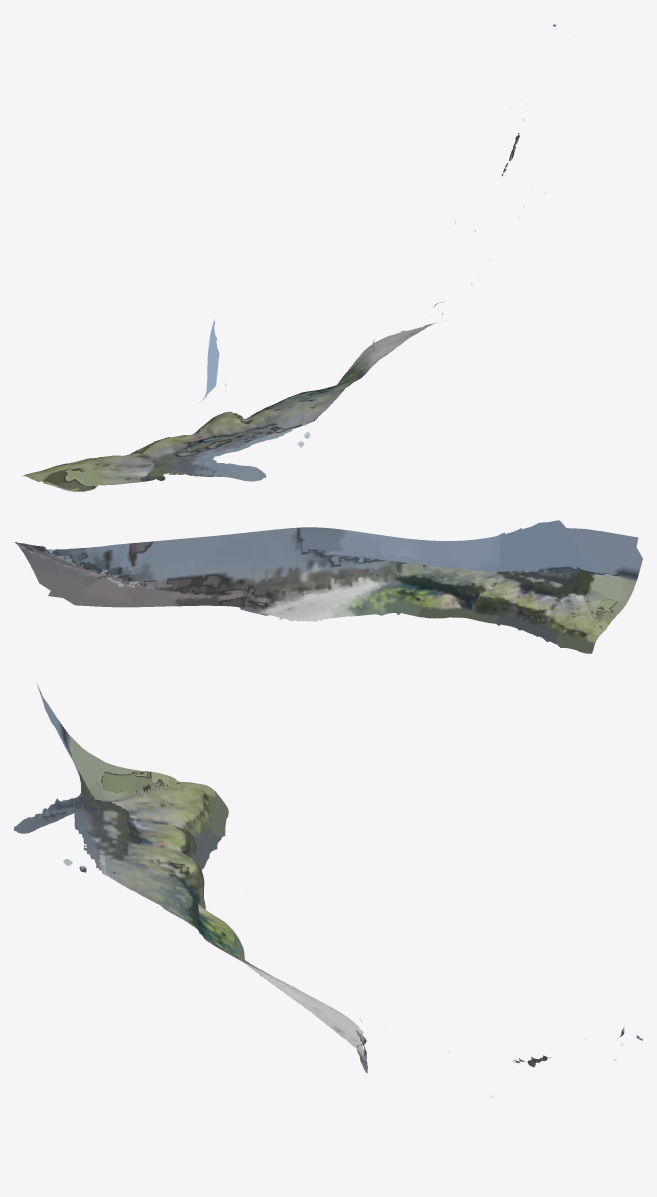
File: 3d_model_stitched_image_20250701_171153.gltf
3 renders of one model, top to bottom at view 1: azimuth 30°, elevation 25°; view 2: azimuth 150°, elevation 25°; view 3: azimuth 270°, elevation 25°, orthographic. The views are drawn at different scales.
Size of the model in its own units: 0.00146 by 0.000262 by 0.000982.
